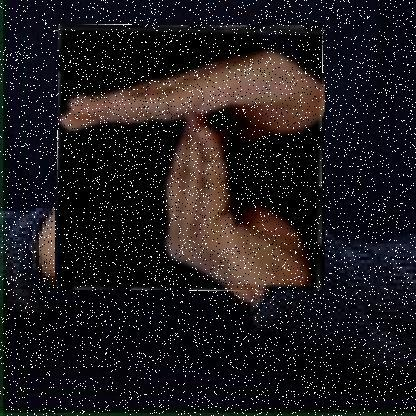Z: (57, 25, 322, 291)
